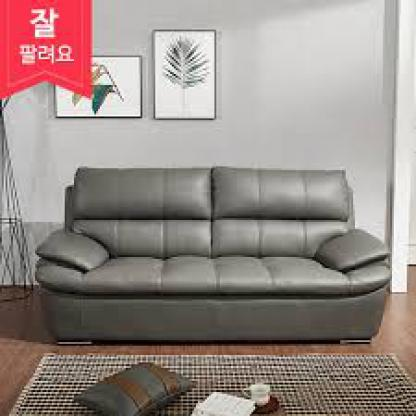sofa: (48, 161, 392, 349)
